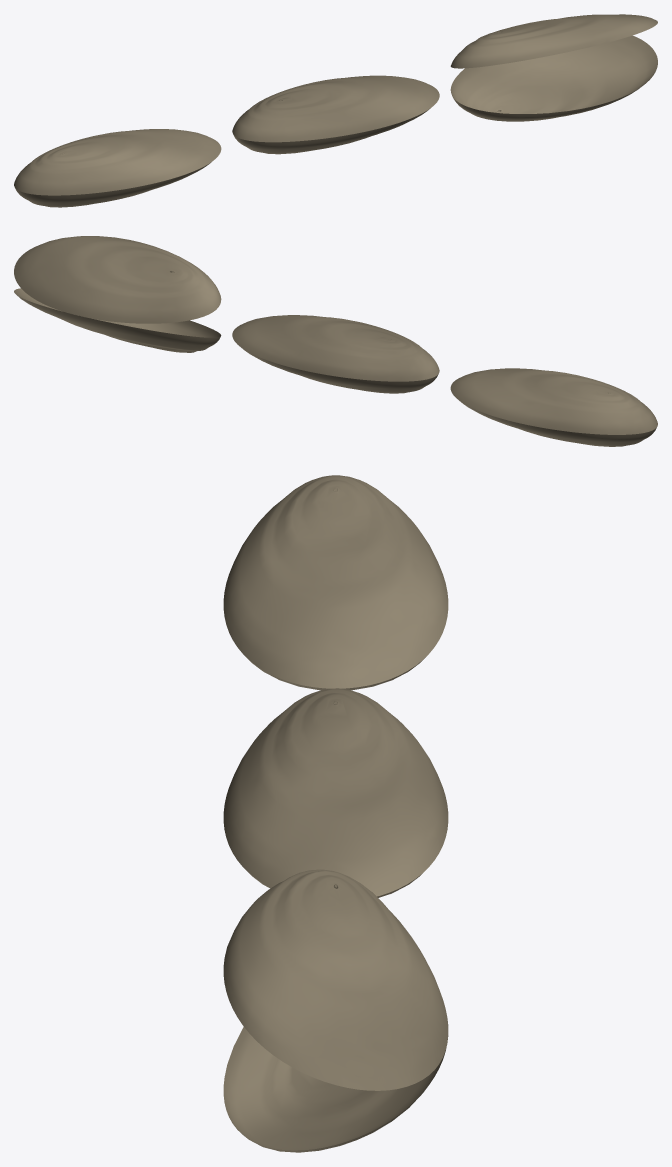
Rendered from small-bivalves.lod1.glb.
The picture shows the model from 3 angles, top to bottom: view 1: azimuth 30°, elevation 25°; view 2: azimuth 150°, elevation 25°; view 3: azimuth 270°, elevation 25°; orthographic projection. The views are drawn at different scales.
Visible parts, largest first — view 1: small-bivalves; view 2: small-bivalves; view 3: small-bivalves.
Boxes of the visible parts, x1,y1,x2,y2 form: small-bivalves: (14, 14, 657, 207); small-bivalves: (14, 236, 657, 446); small-bivalves: (223, 475, 448, 1152).
Size of the model in its own units: 0.1836 by 0.0237 by 0.0281.
